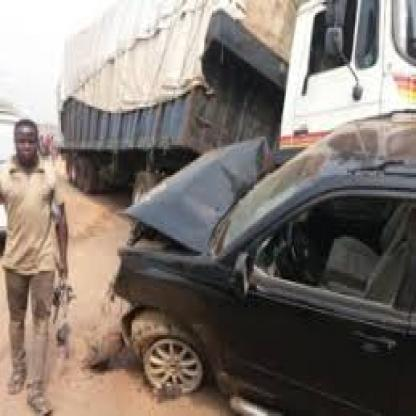accident: (81, 87, 416, 416)
